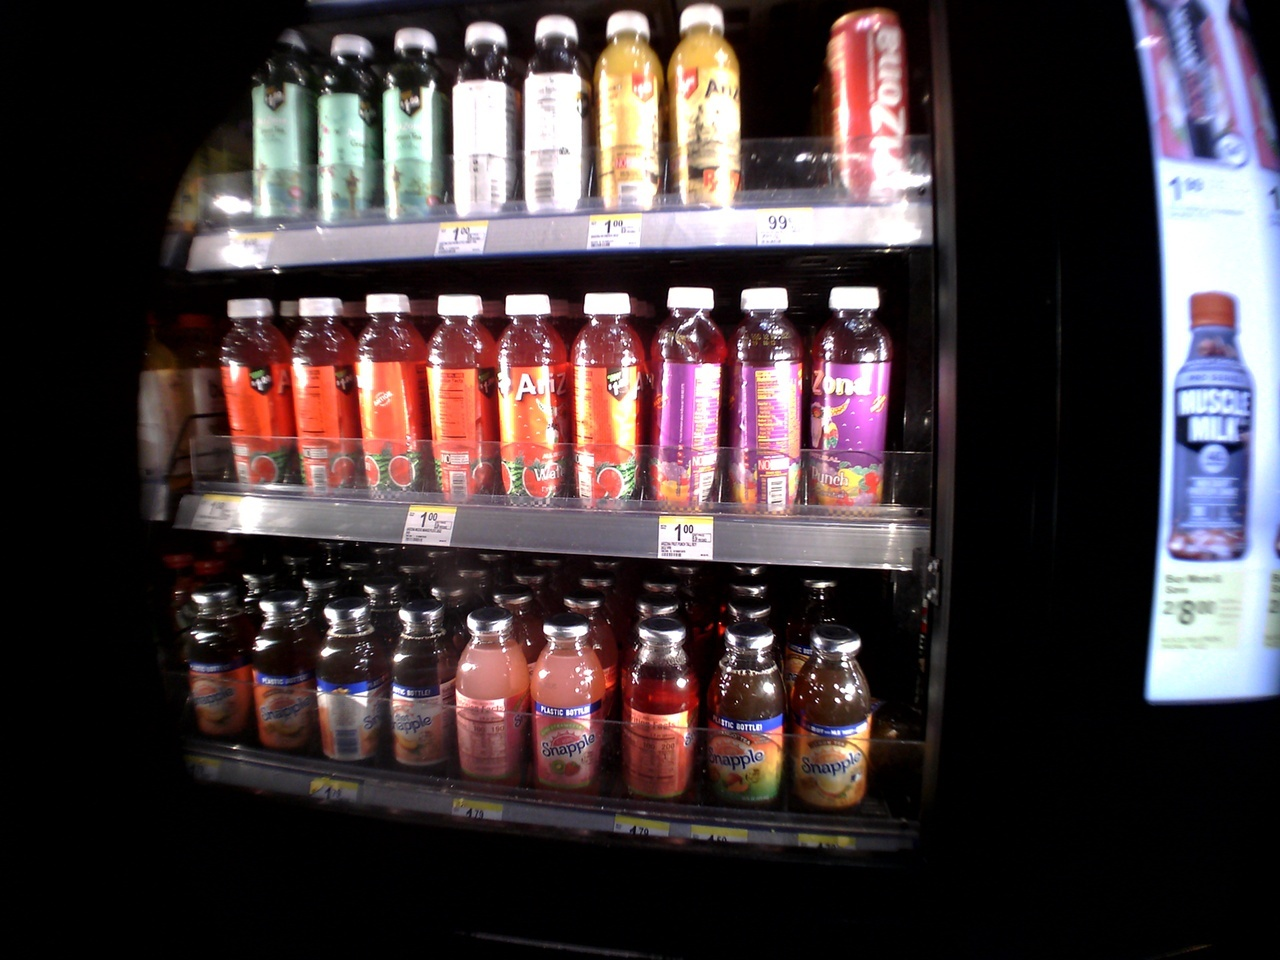shelf: (128, 536, 937, 853), (115, 282, 908, 574), (154, 6, 911, 261)
